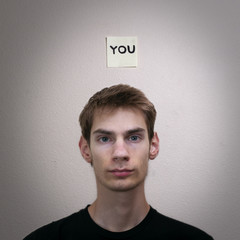young: (70, 81, 166, 197)
